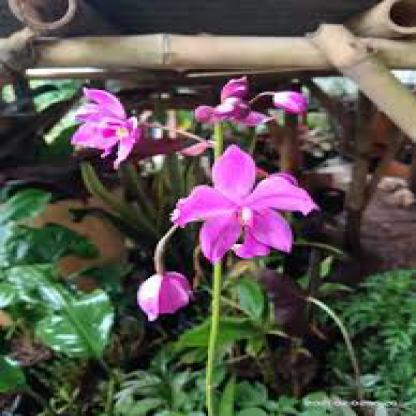ANGGREK: (53, 70, 336, 342)
